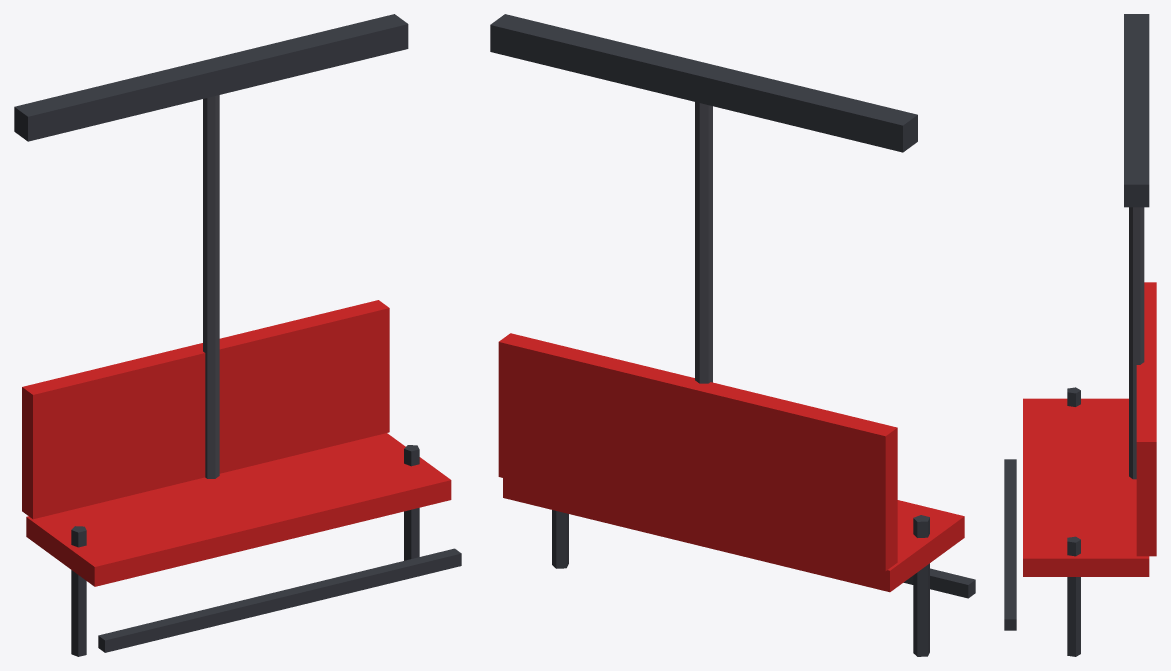
File: chairlift_chair.glb
The picture shows the model from 3 angles, left to right: view 1: azimuth 30°, elevation 25°; view 2: azimuth 150°, elevation 25°; view 3: azimuth 270°, elevation 25°; orthographic projection. The views are drawn at different scales.
Parts seen in each view (by area): view 1: chairlift_chair; view 2: chairlift_chair; view 3: chairlift_chair.
Part boxes in pixels (left/top/right/bottom): chairlift_chair: left=14, top=14, right=461, bottom=656; chairlift_chair: left=490, top=14, right=975, bottom=656; chairlift_chair: left=1004, top=14, right=1156, bottom=656.
Bounding box in the file's own units: 1.6 × 2.1 × 0.605.
